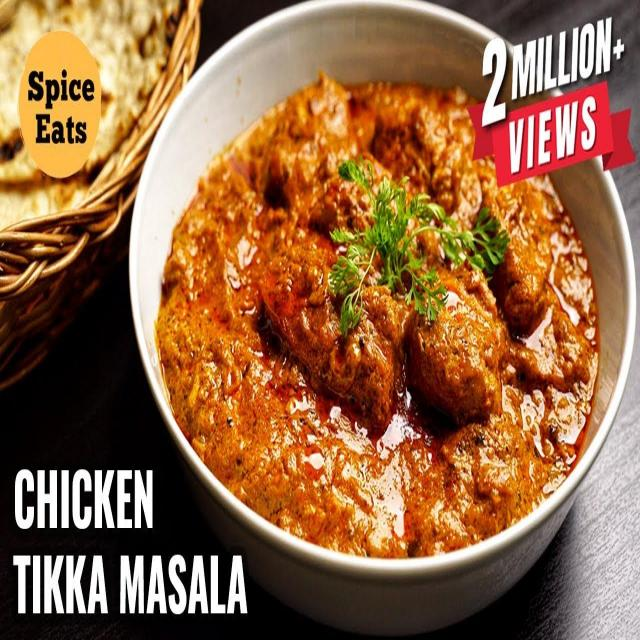chicken: (148, 38, 631, 596)
